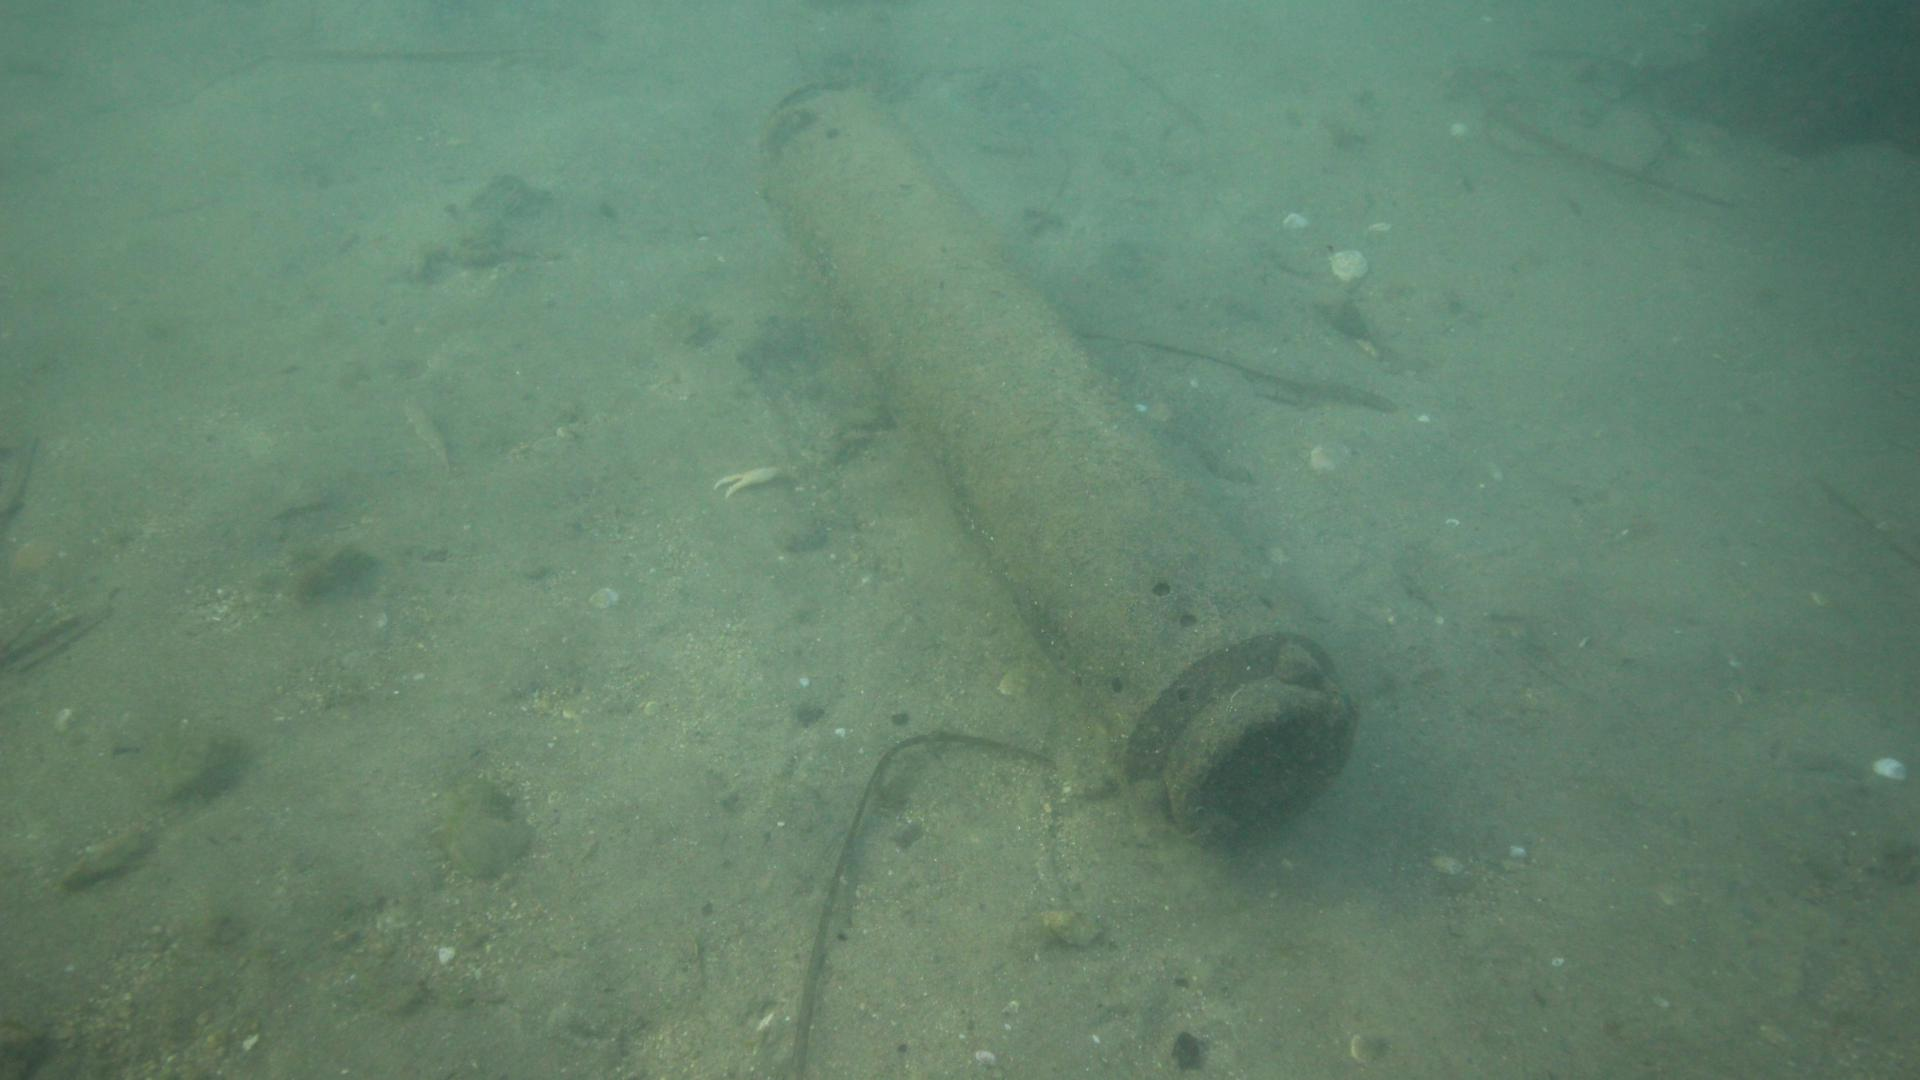eel fish trap: (758, 76, 1354, 845)
